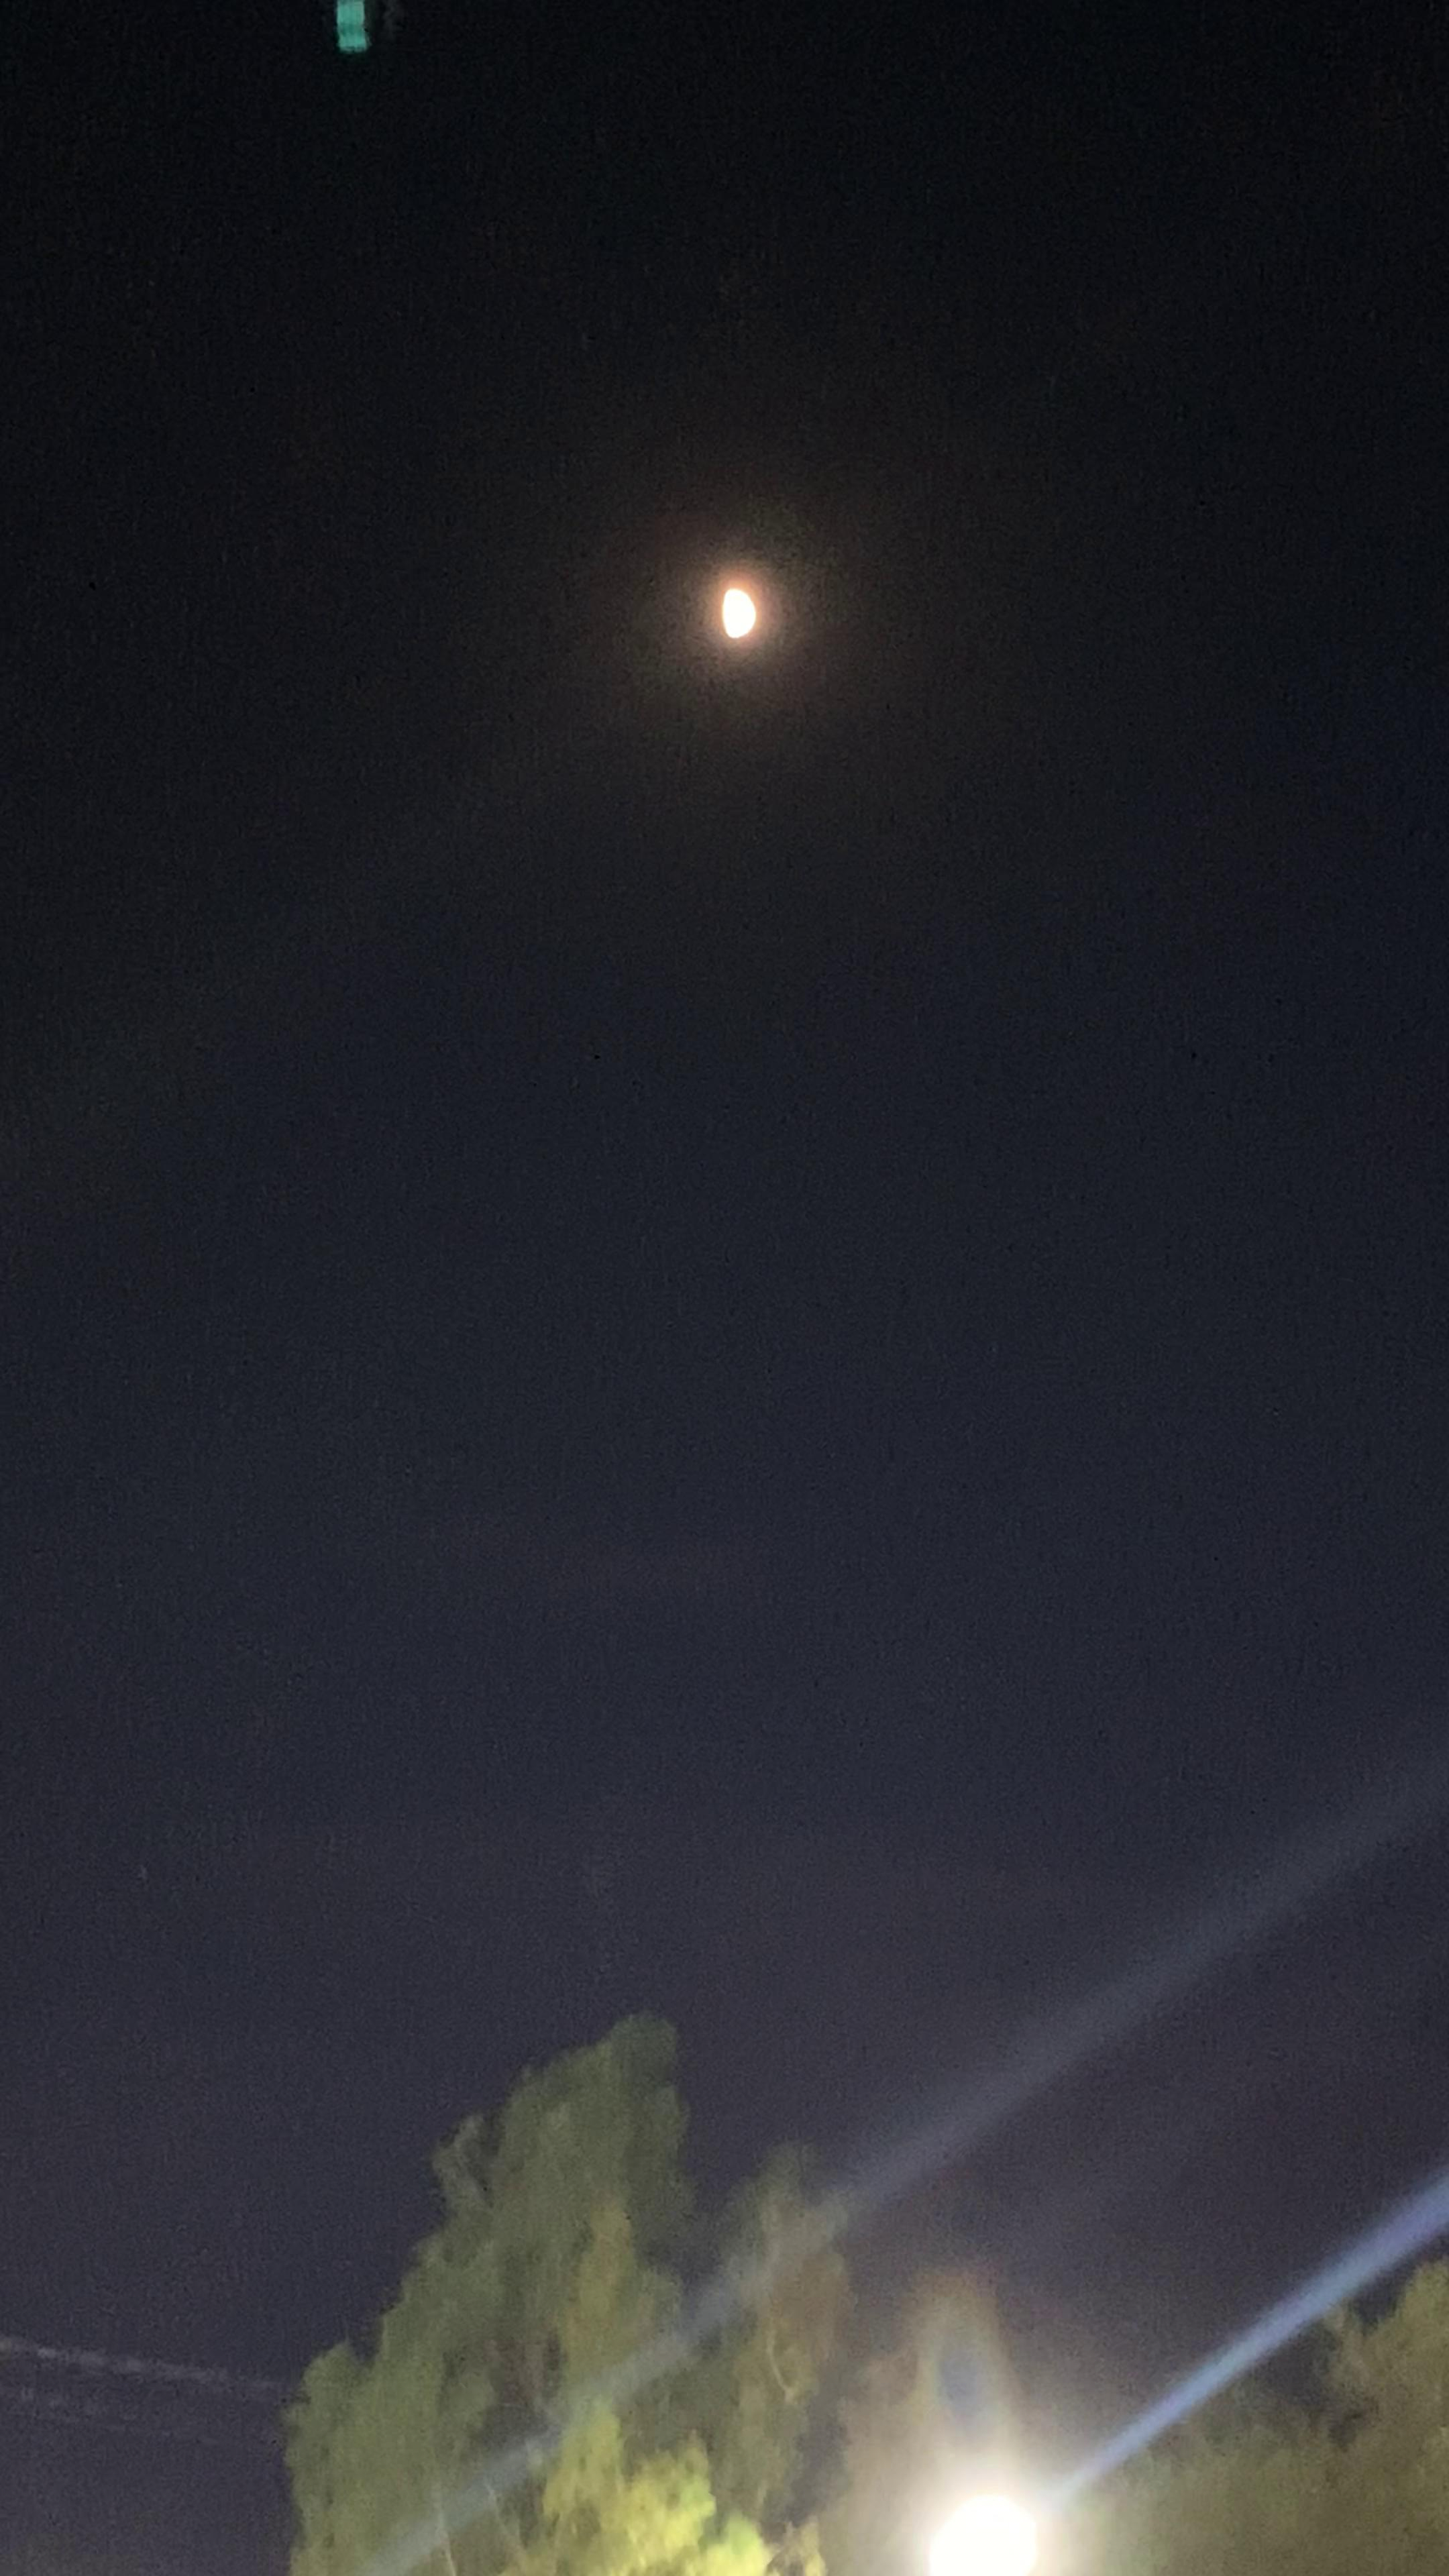moon: (676, 536, 809, 663)
